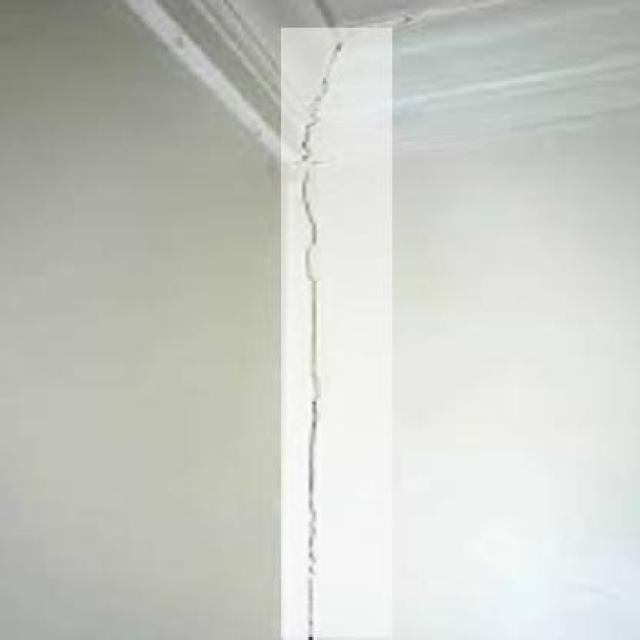Crack: (280, 30, 363, 636)
